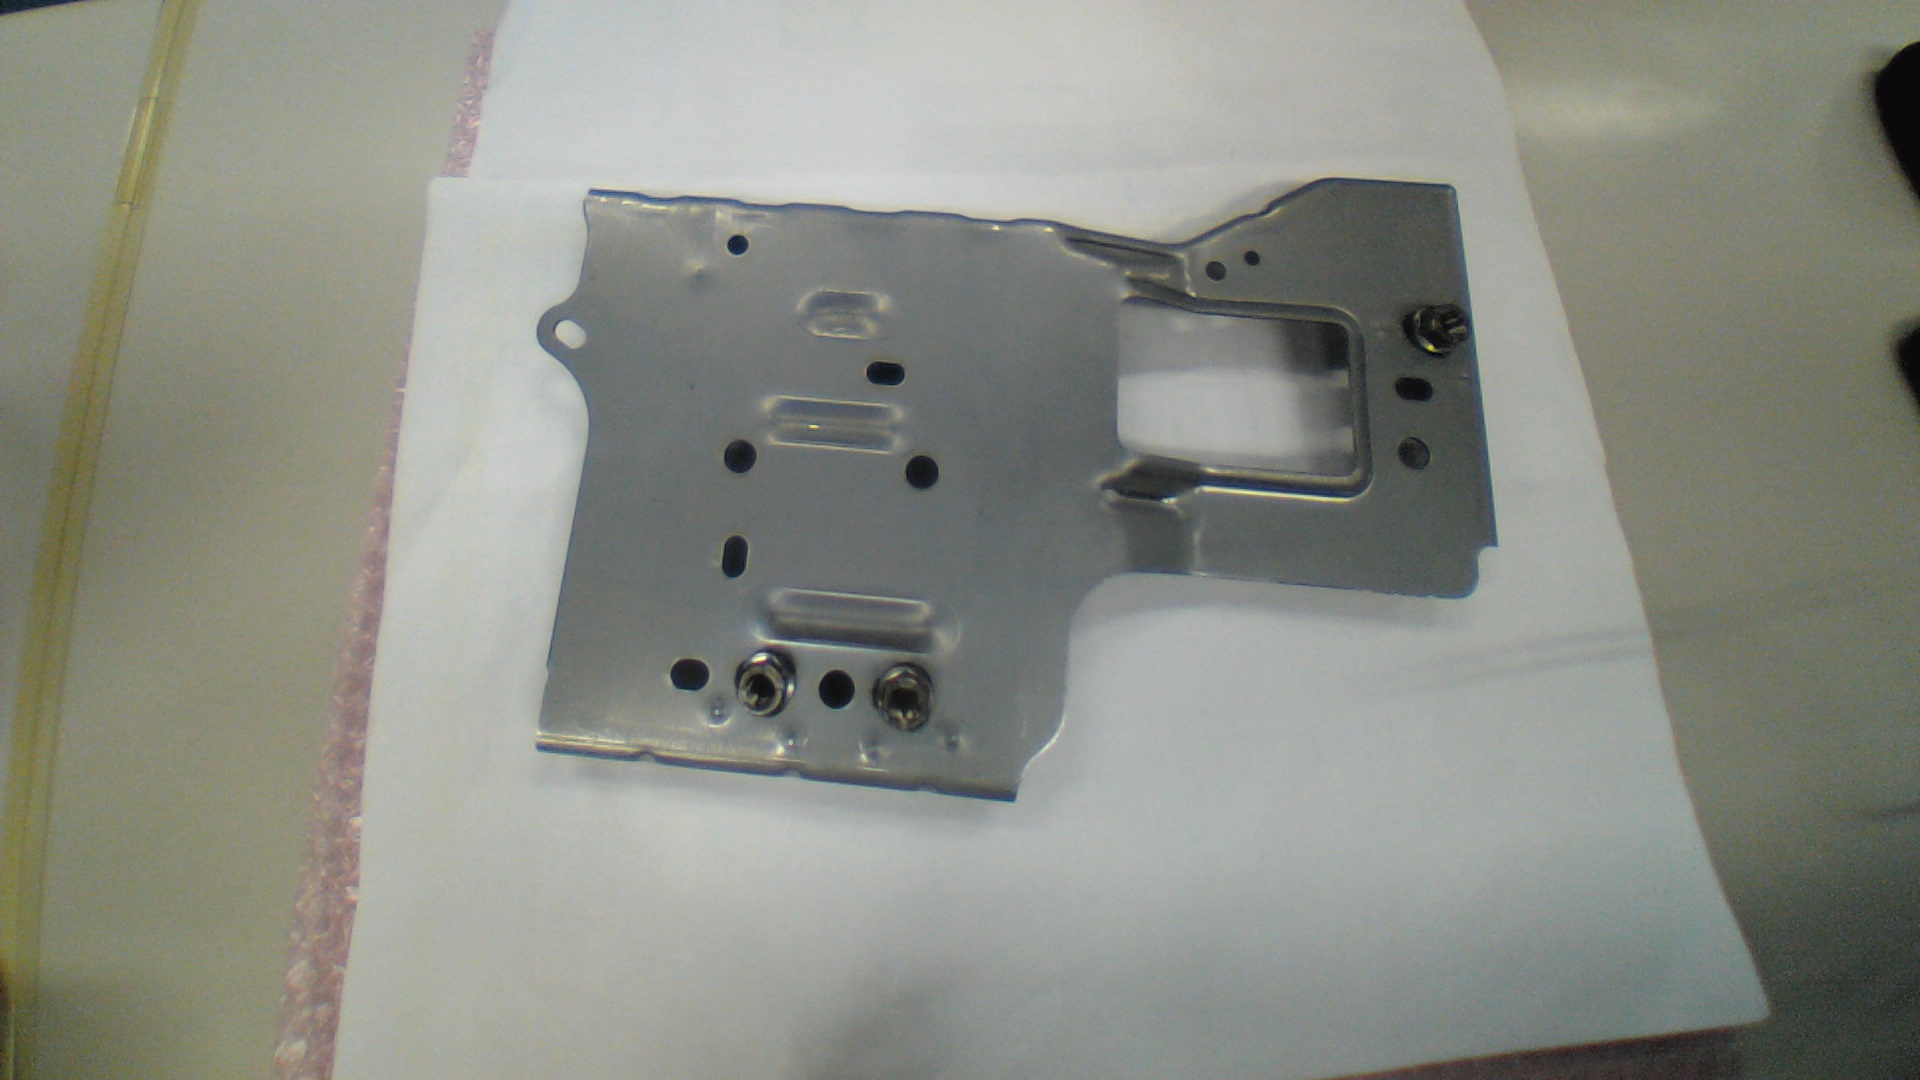dog: (735, 647, 796, 723), (1404, 301, 1474, 361), (870, 665, 934, 731)
